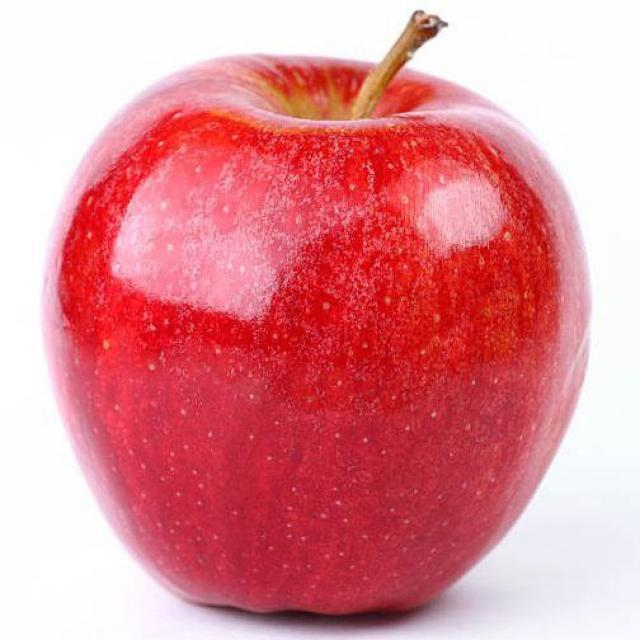Fresh Apple: (68, 56, 587, 622)
